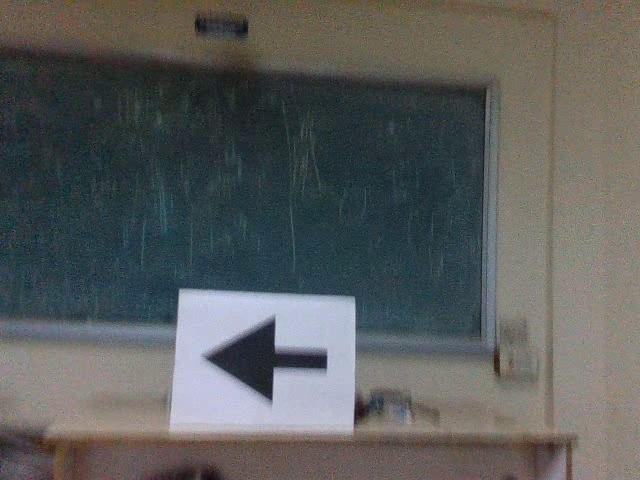Left: (193, 308, 337, 413)
